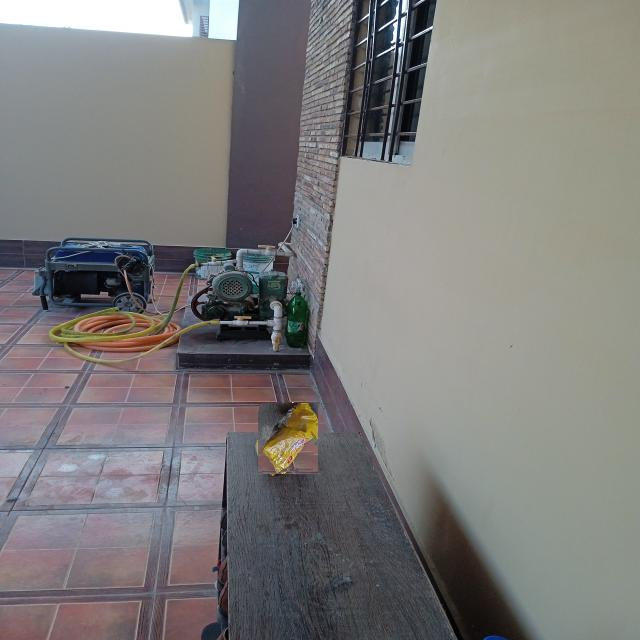Plastic: (258, 403, 318, 474)
